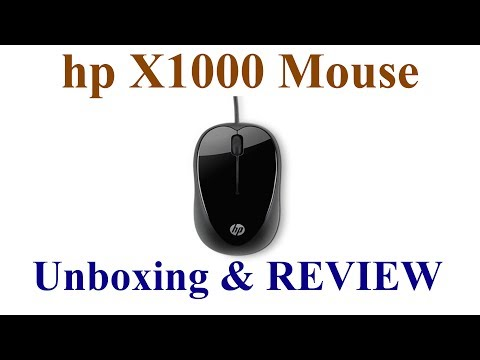hp-mouse-X1000: (188, 92, 287, 260)
